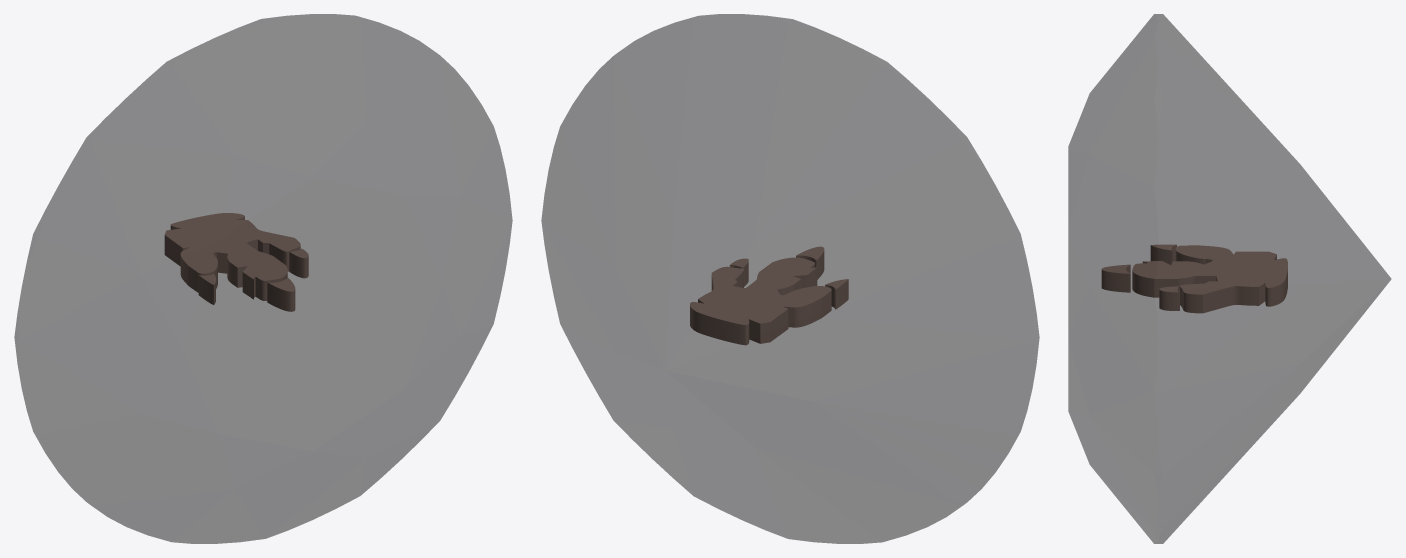
Rendered from Jewel_Model.gltf.
The picture shows the model from 3 angles, left to right: view 1: azimuth 30°, elevation 25°; view 2: azimuth 150°, elevation 25°; view 3: azimuth 270°, elevation 25°; orthographic projection. The views are drawn at different scales.
Parts seen in each view (by area): view 1: diamondpink_dmesh.004, Layer 01; view 2: diamondpink_dmesh.004, Layer 01; view 3: diamondpink_dmesh.004, Layer 01.
Boxes of the visible parts, left/top/right/bottom form: diamondpink_dmesh.004: left=14, top=14, right=512, bottom=543; Layer 01: left=164, top=213, right=308, bottom=311; diamondpink_dmesh.004: left=541, top=14, right=1039, bottom=543; Layer 01: left=690, top=246, right=848, bottom=345; diamondpink_dmesh.004: left=1068, top=14, right=1391, bottom=543; Layer 01: left=1101, top=244, right=1287, bottom=313.
Bounding box in the file's own units: 51.2 × 51.2 × 31.23.
